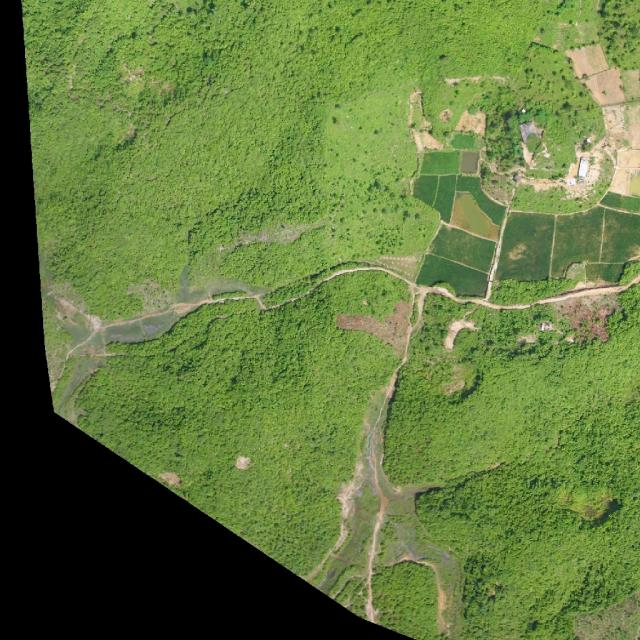agricultural_land: (412, 150, 640, 296), (561, 33, 636, 115)
greenland: (63, 167, 476, 581), (380, 284, 541, 482), (462, 0, 606, 184), (383, 393, 564, 493)
